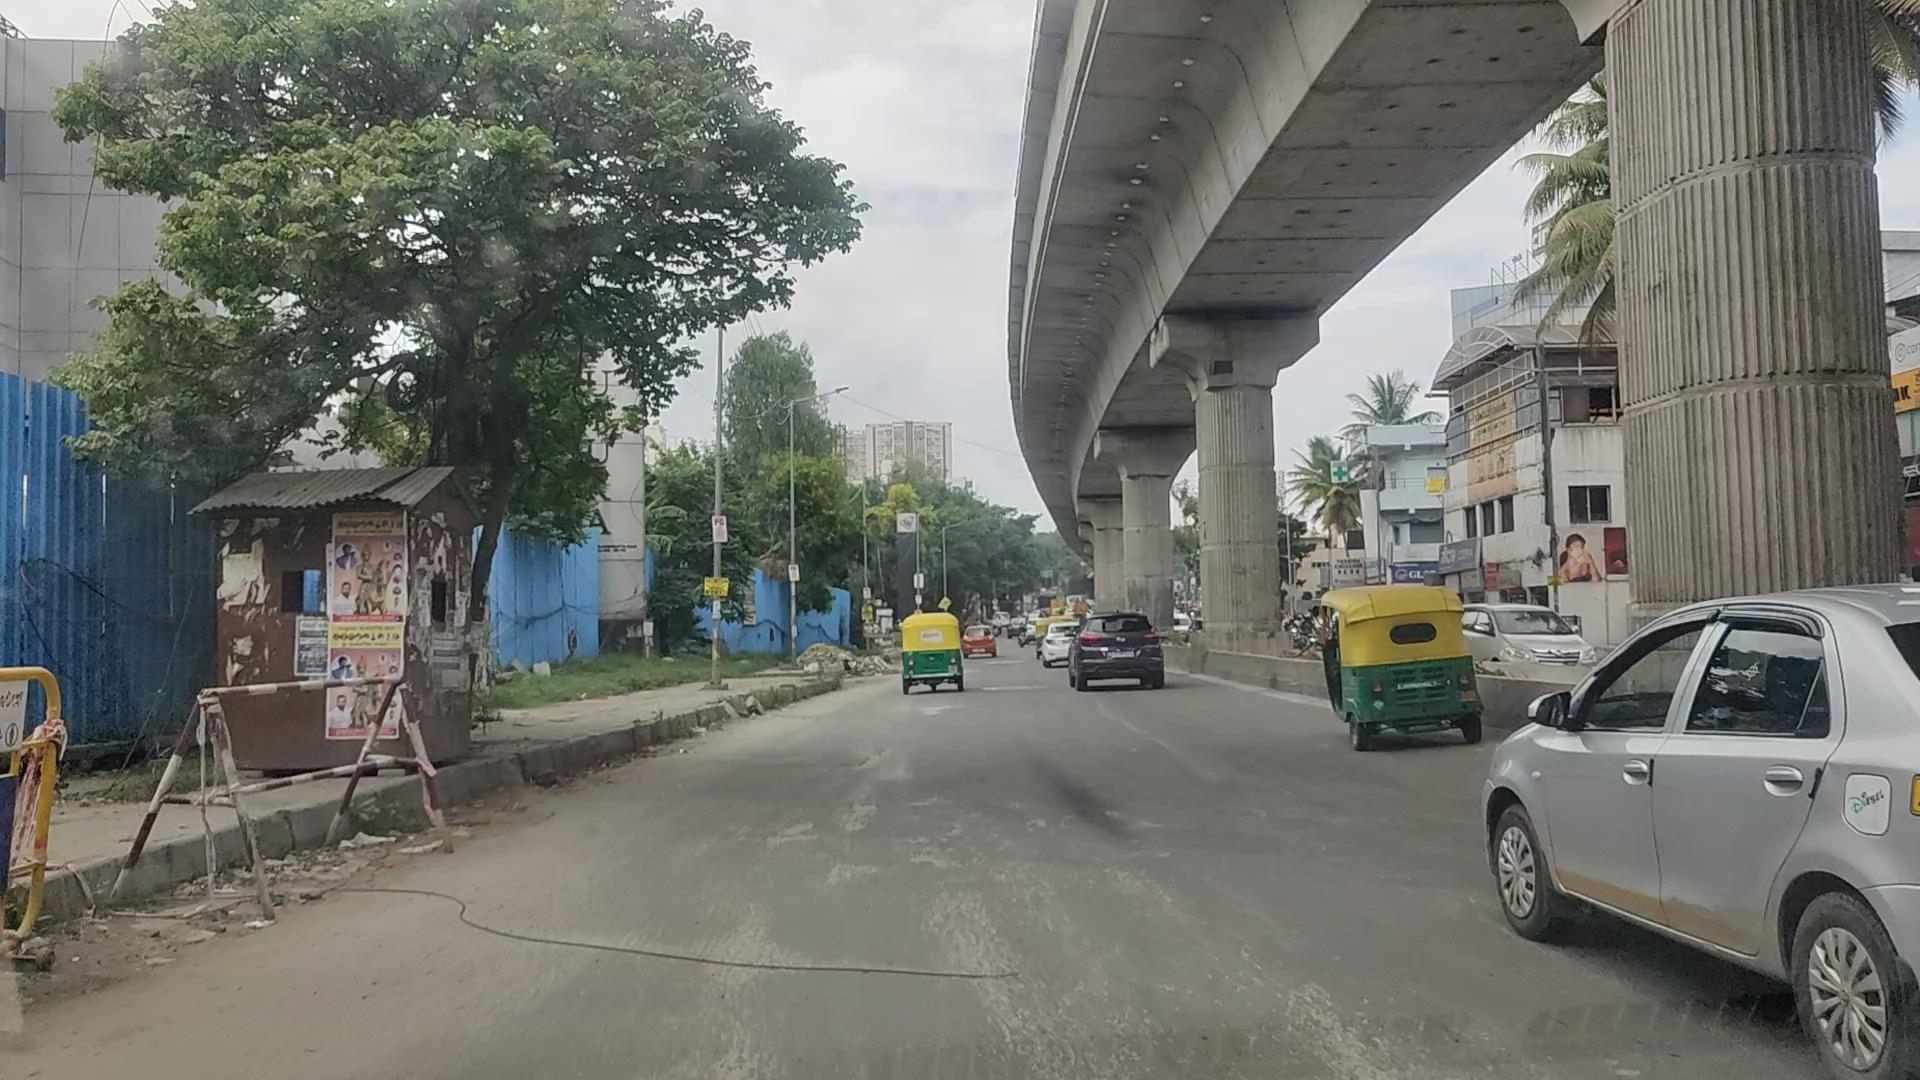LMV: (1319, 582, 1494, 737), (1077, 612, 1171, 682), (902, 611, 964, 683)
RoadDamages: (795, 737, 903, 856), (976, 674, 1048, 704)
